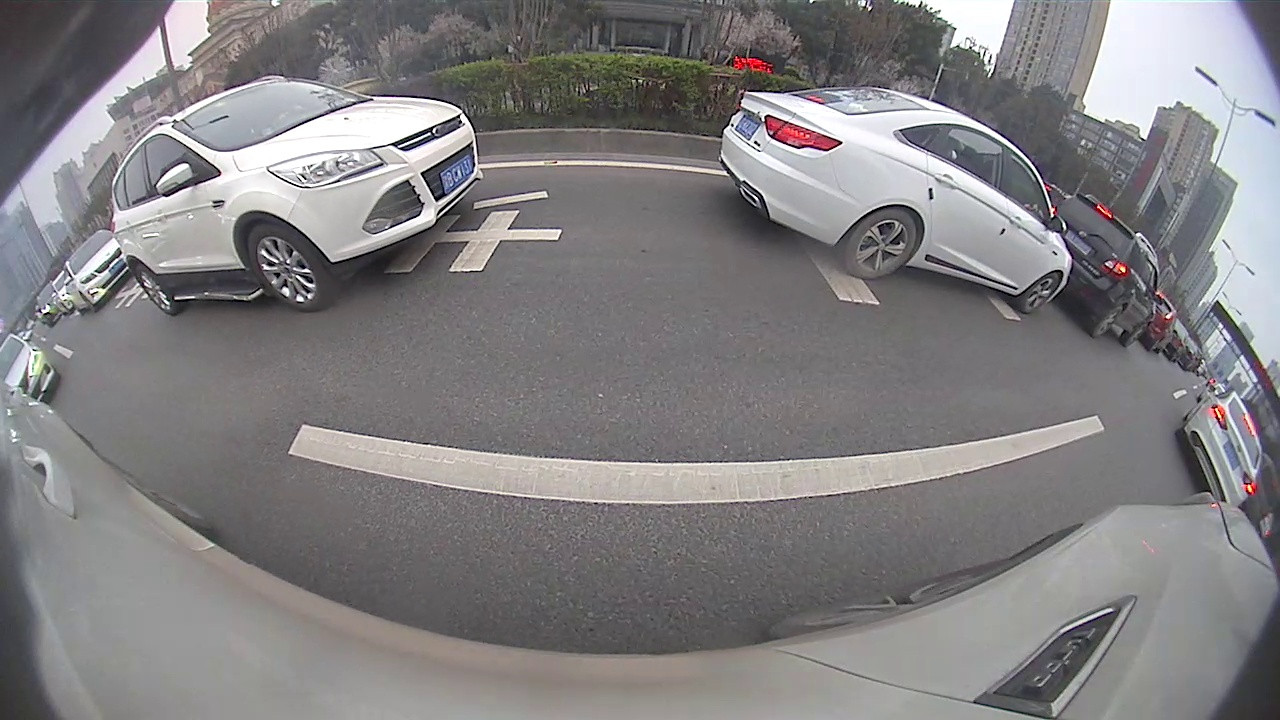car: (110, 75, 485, 317), (719, 86, 1074, 315), (1051, 191, 1159, 347), (1179, 388, 1268, 508), (62, 229, 133, 315), (2, 332, 59, 402)
front: (246, 219, 343, 313), (1018, 270, 1062, 315)
rear: (842, 207, 918, 283), (132, 261, 179, 318), (1090, 302, 1122, 339)
